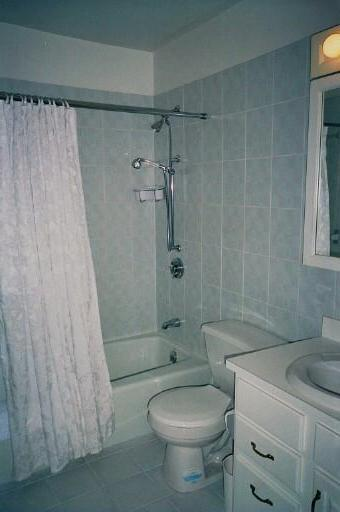Ducha: (0, 109, 184, 466)
Sanitario: (148, 320, 285, 501)
